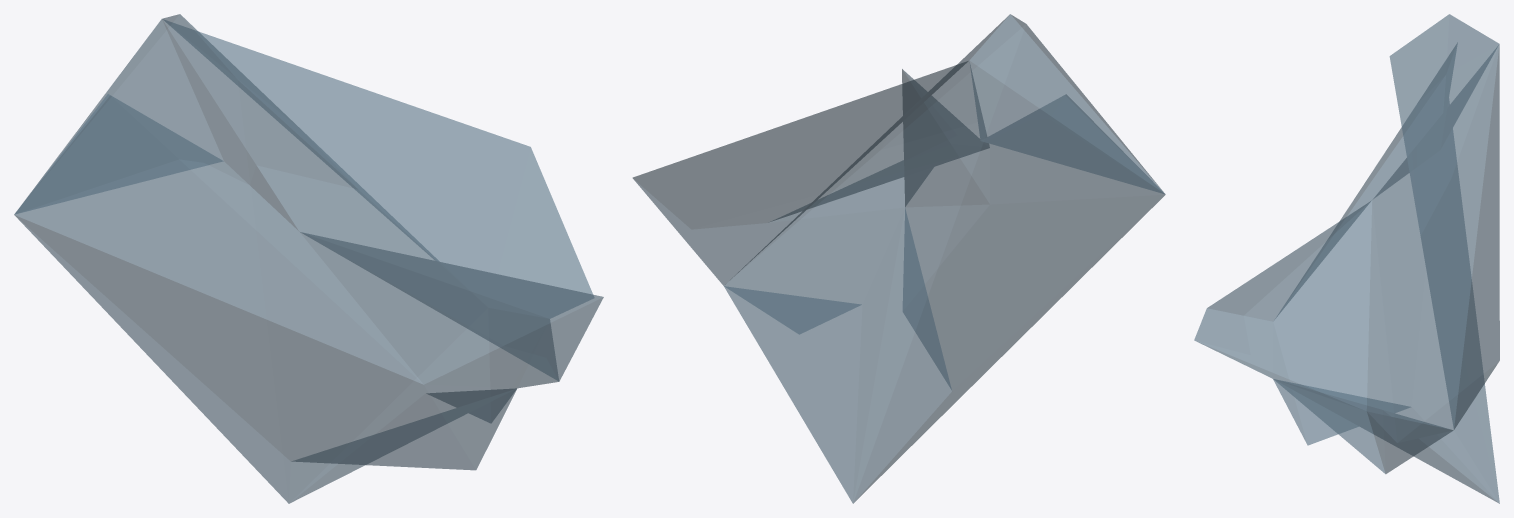
Rendered from particle5.dae.
The picture shows the model from 3 angles, left to right: view 1: azimuth 30°, elevation 25°; view 2: azimuth 150°, elevation 25°; view 3: azimuth 270°, elevation 25°; orthographic projection. The views are drawn at different scales.
Parts seen in each view (by area): view 1: Platonic.3; view 2: Platonic.3; view 3: Platonic.3.
Part boxes in pixels (x1,y1,x2,y2): Platonic.3: [14, 14, 603, 503]; Platonic.3: [633, 14, 1165, 503]; Platonic.3: [1194, 14, 1499, 503].
Bounding box in the file's own units: 360 × 342 × 218.
